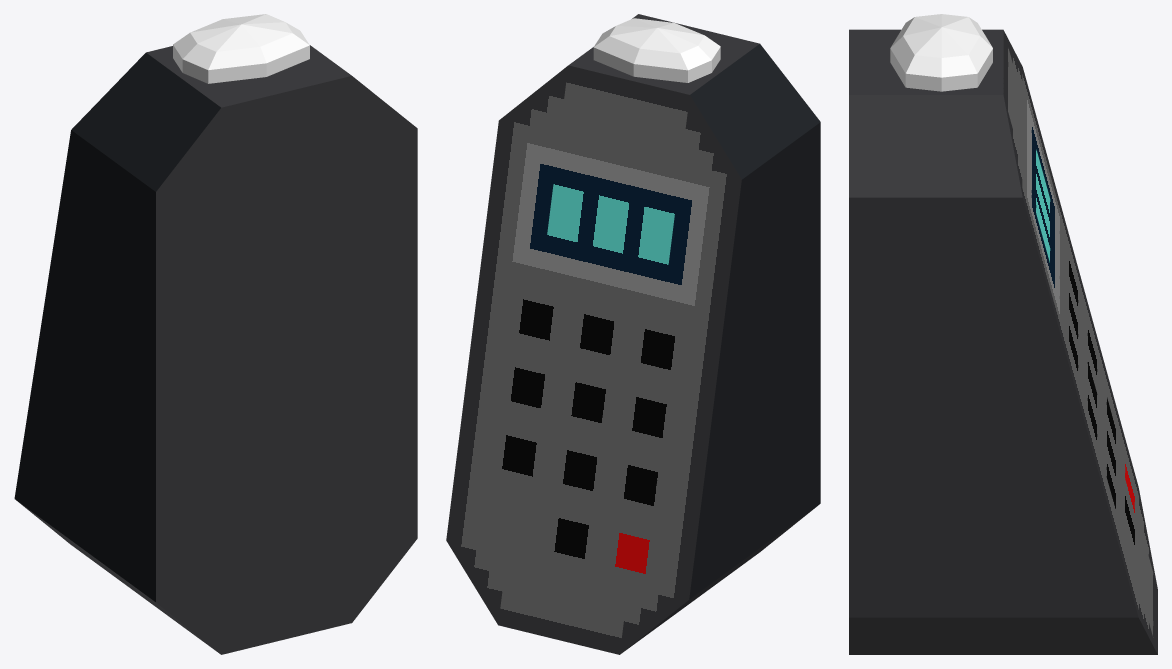
Rendered from KeyPadSmall.gltf.
The picture shows the model from 3 angles, left to right: view 1: azimuth 30°, elevation 25°; view 2: azimuth 150°, elevation 25°; view 3: azimuth 270°, elevation 25°; orthographic projection. The views are drawn at different scales.
Parts seen in each view (by area): view 1: mesh, sphere; view 2: mesh, sphere; view 3: mesh, sphere.
Part boxes in pixels (x1,y1,x2,y2): mesh: (14, 45, 417, 654); sphere: (173, 14, 309, 83); mesh: (446, 14, 820, 654); sphere: (593, 18, 720, 82); mesh: (849, 29, 1157, 654); sphere: (890, 14, 992, 91).
Bounding box in the file's own units: 0.25 × 0.5313 × 0.25.
Materials: 2 (1 with a texture image).
